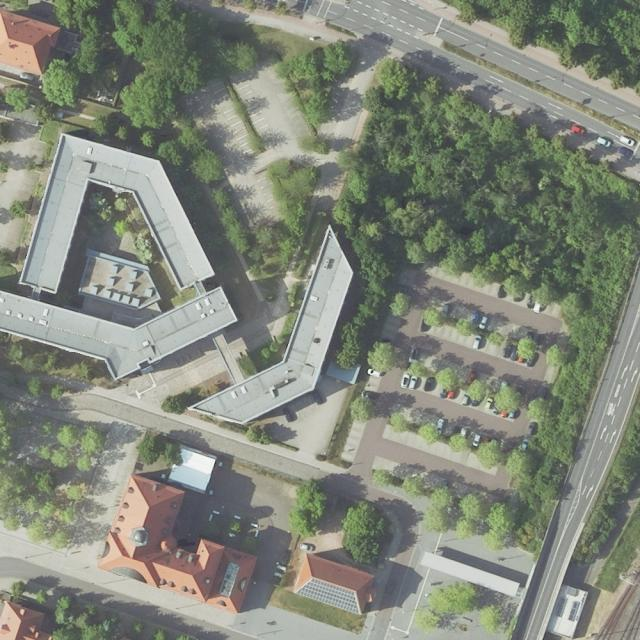PV: (295, 578, 360, 613)
